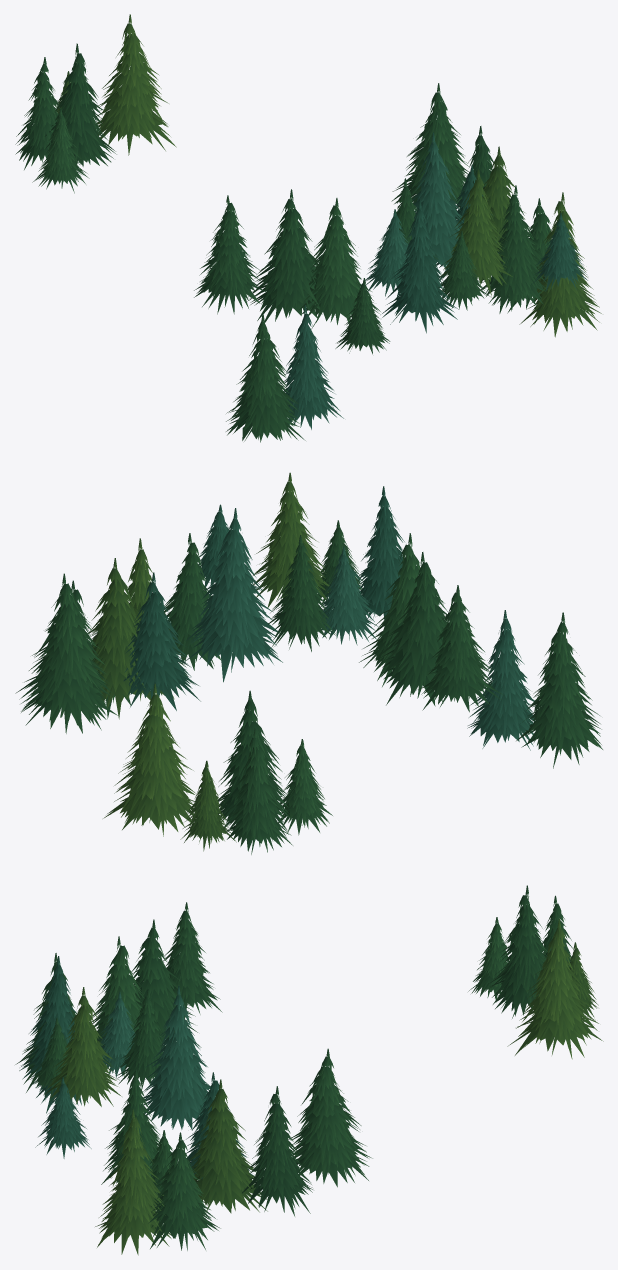
File: pine_14.glb
The picture shows the model from 3 angles, top to bottom: view 1: azimuth 30°, elevation 25°; view 2: azimuth 150°, elevation 25°; view 3: azimuth 270°, elevation 25°; orthographic projection. The views are drawn at different scales.
Parts seen in each view (by area): view 1: pine_14; view 2: pine_14; view 3: pine_14.
Part boxes in pixels (x1=…): pine_14: x1=15, y1=14, x2=601, y2=442; pine_14: x1=15, y1=472, x2=602, y2=854; pine_14: x1=15, y1=885, x2=603, y2=1255.
Bounding box in the file's own units: 44.08 × 21.95 × 53.86.
Materials: 1 (1 with a texture image).
